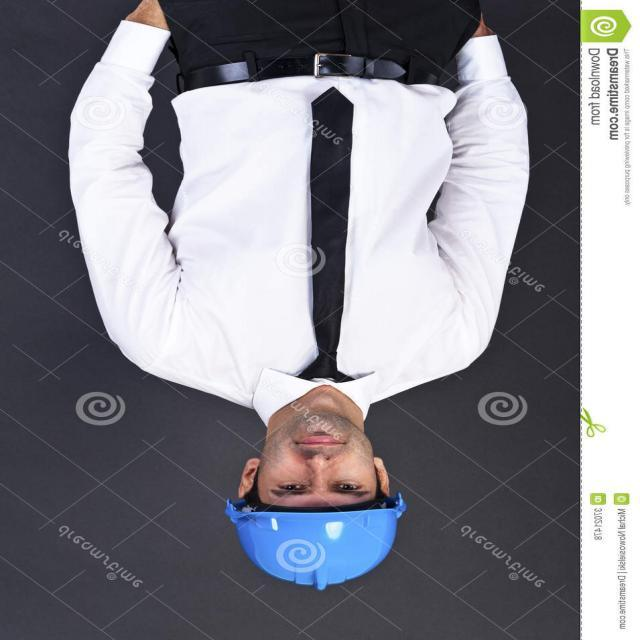safetyhelmet: (212, 404, 420, 584)
